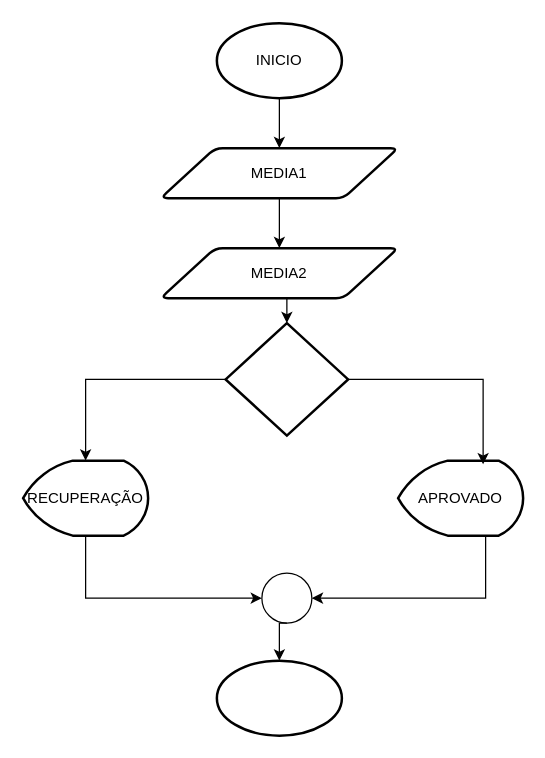
Image size: 545x758. Some labels were removed from this diagram. The shapes that lost their labels are listed below. From the top down, each one's box as (x1, y1, x2, y2) in pixels, then its label:
(224, 321, 349, 436): MEDIA1 >= MEDIA2
(215, 659, 342, 736): FIM
